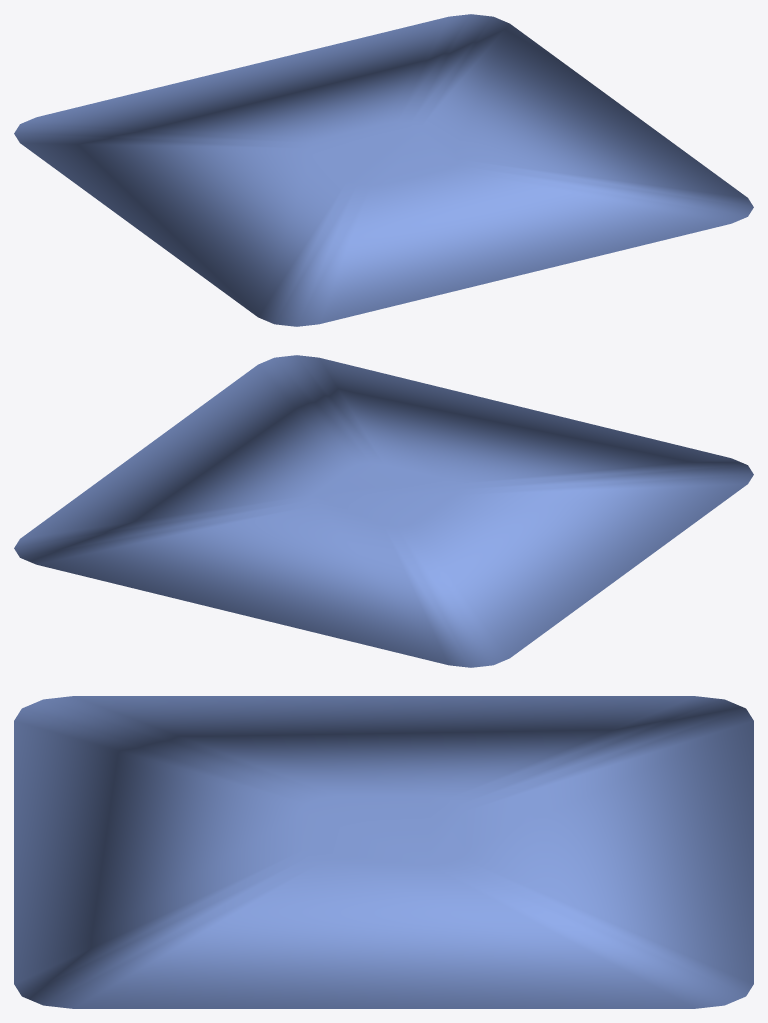
File: Groung11.fbx
3 renders of one model, top to bottom at view 1: azimuth 30°, elevation 25°; view 2: azimuth 150°, elevation 25°; view 3: azimuth 270°, elevation 25°, orthographic. The views are drawn at different scales.
Visible parts, largest first — view 1: Cube; view 2: Cube; view 3: Cube.
Part boxes in pixels (bbox=[...]): Cube: bbox=[14, 14, 753, 326]; Cube: bbox=[14, 355, 753, 667]; Cube: bbox=[14, 696, 753, 1008].
Bounding box in the file's own units: 137 × 4.4 × 137.
